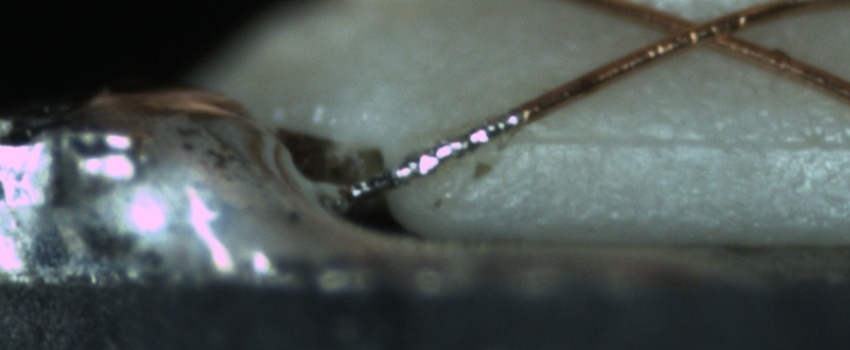CL: (654, 5, 748, 55)
DL: (507, 108, 850, 181)
TS: (345, 108, 522, 202)
TTCW: (349, 82, 573, 201)
